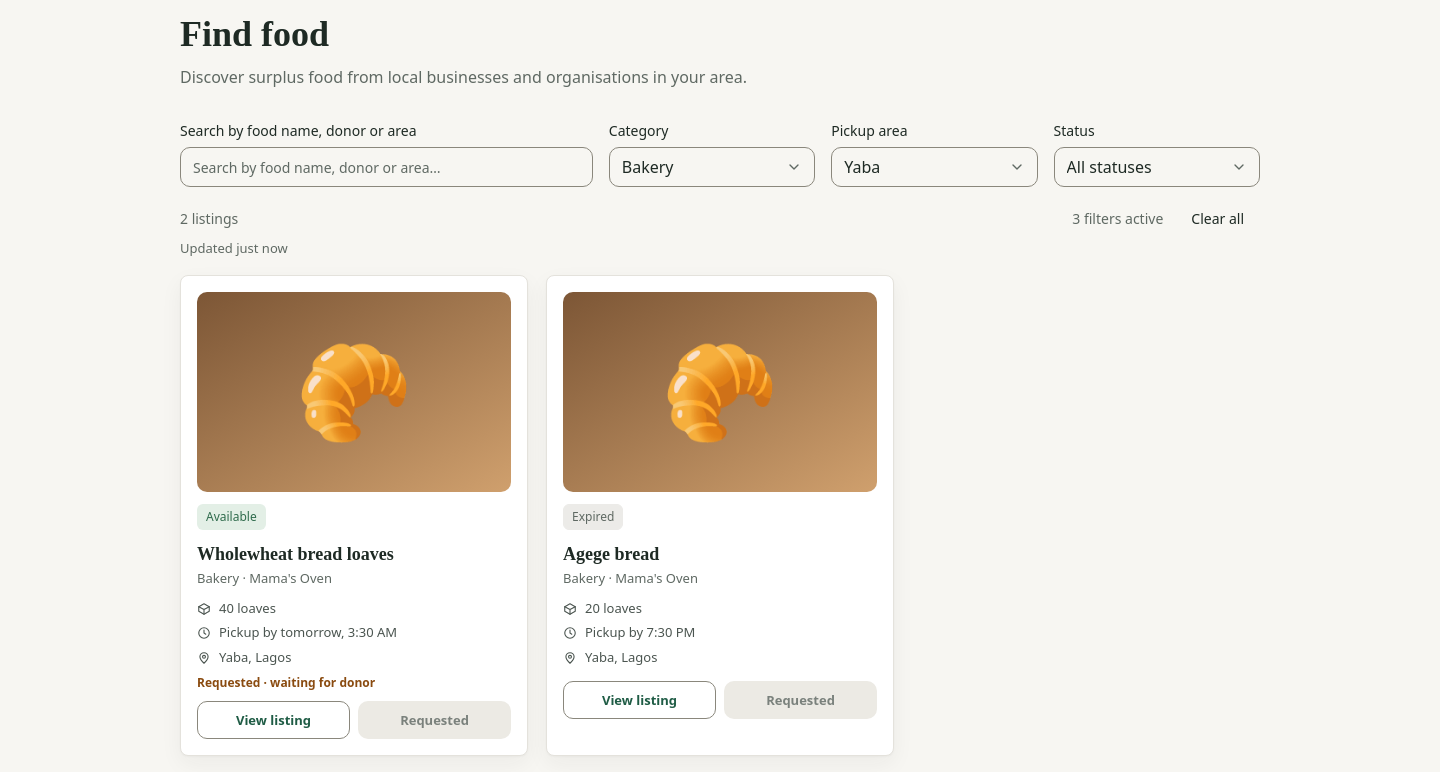
it: Find food: filters › clears every filter with Clear all
Expected: the heading "Agege bread" is shown, [563,544,659,564]
Click the button "Clear all". click: (1218, 219)
box: [1175,199,1260,239]
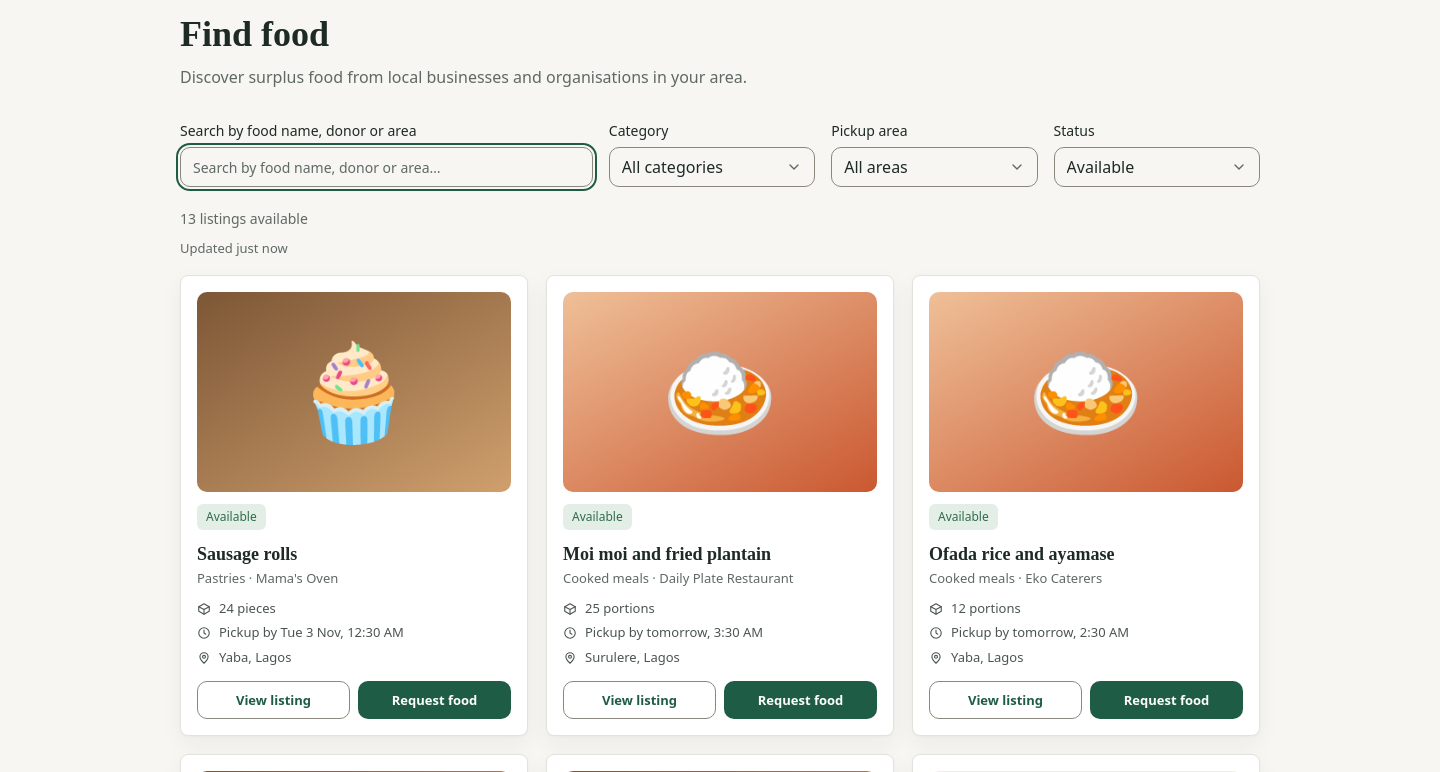
Expected: the text "13 listings available" is shown, [180,209,308,229]
